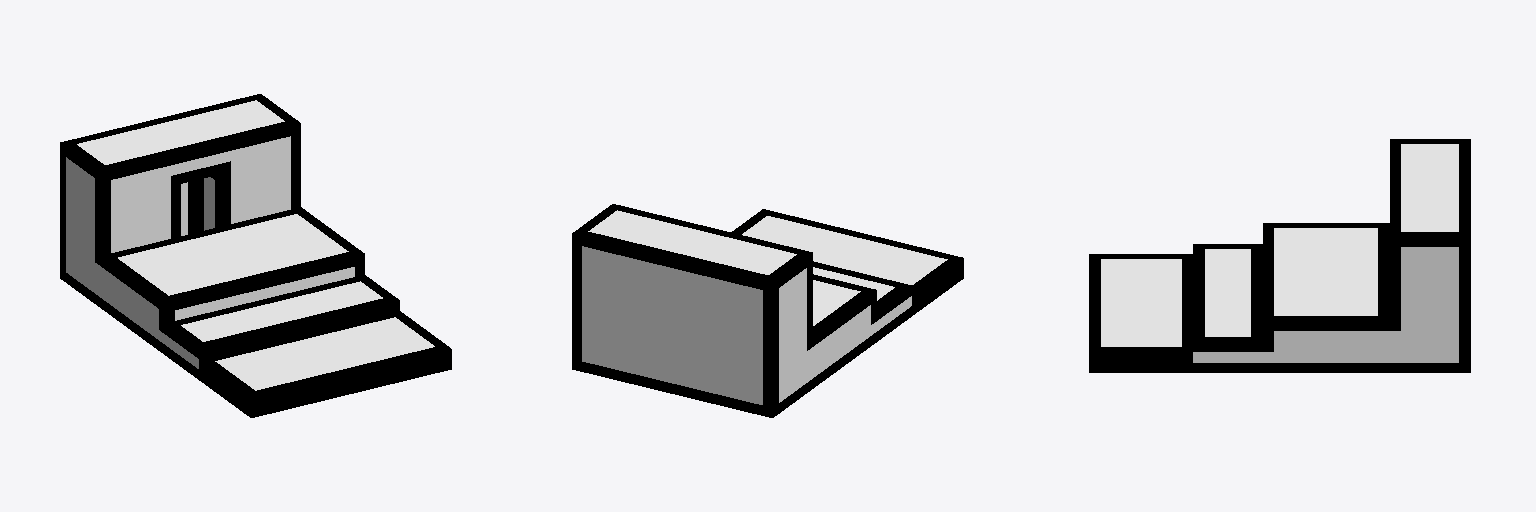
3 renders of one model, left to right at view 1: azimuth 30°, elevation 25°; view 2: azimuth 150°, elevation 25°; view 3: azimuth 270°, elevation 25°, orthographic.
Visible parts, largest first — view 1: object 1; view 2: object 1; view 3: object 1.
Part boxes in pixels (x1,y1,x2,y2): object 1: (60, 94, 451, 417); object 1: (572, 204, 963, 417); object 1: (1089, 139, 1470, 372).
Size of the model in its own units: 2 by 1.3 by 3.3.
1 materials, 1 textured.